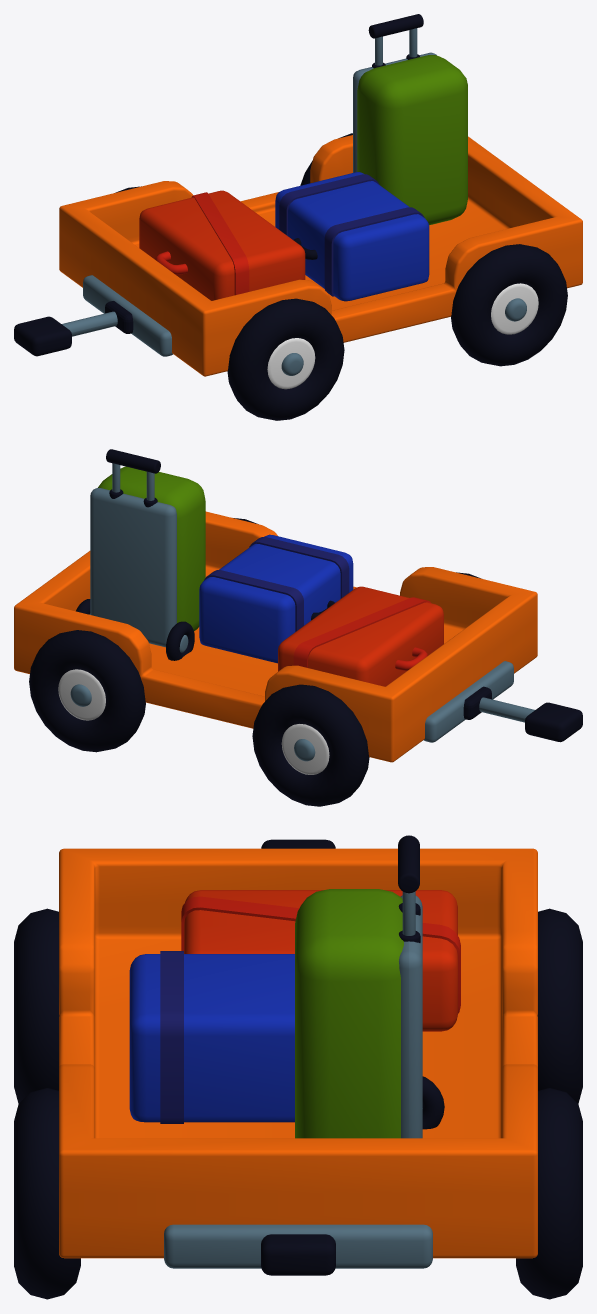
Rendered from Vagon.fbx.
The picture shows the model from 3 angles, top to bottom: view 1: azimuth 30°, elevation 25°; view 2: azimuth 150°, elevation 25°; view 3: azimuth 270°, elevation 25°; orthographic projection. The views are drawn at different scales.
Parts seen in each view (by area): view 1: Cube.001, Torus, Cube.011, Cube.013, Cube.007, Cylinder.002, Cube.014, Cube.005, Cube.019, Cube.010, Cylinder.001, Cube.006 (+3 smaller); view 2: Cube.001, Torus, Cube.012, Cube.013, Cube.007, Cube.011, Cylinder.002, Cube.014, Cube.005, Cube.019, Cube.010, Torus.001 (+5 smaller); view 3: Cube.001, Torus, Cube.011, Cube.013, Cube.007, Cube.005, Cube.012, Cube.014, Cube.008, Cube.010, Cylinder.005, Torus.001 (+2 smaller).
Part boxes in pixels (x1,y1,x2,y2): Cube.001: (59,135,582,376); Torus: (115,133,567,420); Cube.011: (357,55,467,225); Cube.013: (275,172,429,301); Cube.007: (139,190,305,300); Cylinder.002: (267,283,538,389); Cube.014: (279,174,424,296); Cube.005: (83,275,173,356); Cube.019: (14,316,71,356); Cube.010: (191,192,249,295); Cylinder.001: (281,298,526,375); Cube.006: (62,311,117,336); Cube.001: (14,511,537,762); Torus: (29,518,480,806); Cube.012: (90,488,176,647); Cube.013: (199,534,353,663); Cube.007: (278,586,443,686); Cube.011: (98,466,205,631); Cylinder.002: (58,669,329,774); Cube.014: (204,537,349,631); Cube.005: (423,661,513,742); Cube.019: (525,702,582,742); Cube.010: (293,597,430,667); Torus.001: (76,599,194,660); Cube.001: (59,848,537,1258); Torus: (14,908,582,1299); Cube.011: (295,889,403,1138); Cube.013: (129,954,294,1122); Cube.007: (184,890,457,1031); Cube.005: (164,1224,432,1268); Cube.012: (399,895,422,1138); Cube.014: (160,951,183,1123); Cube.008: (261,1234,335,1275); Cube.010: (181,896,460,1013); Cylinder.005: (398,835,419,893); Torus.001: (422,1076,444,1129).
Bounding box in the file's own units: 612 × 301 × 359.
